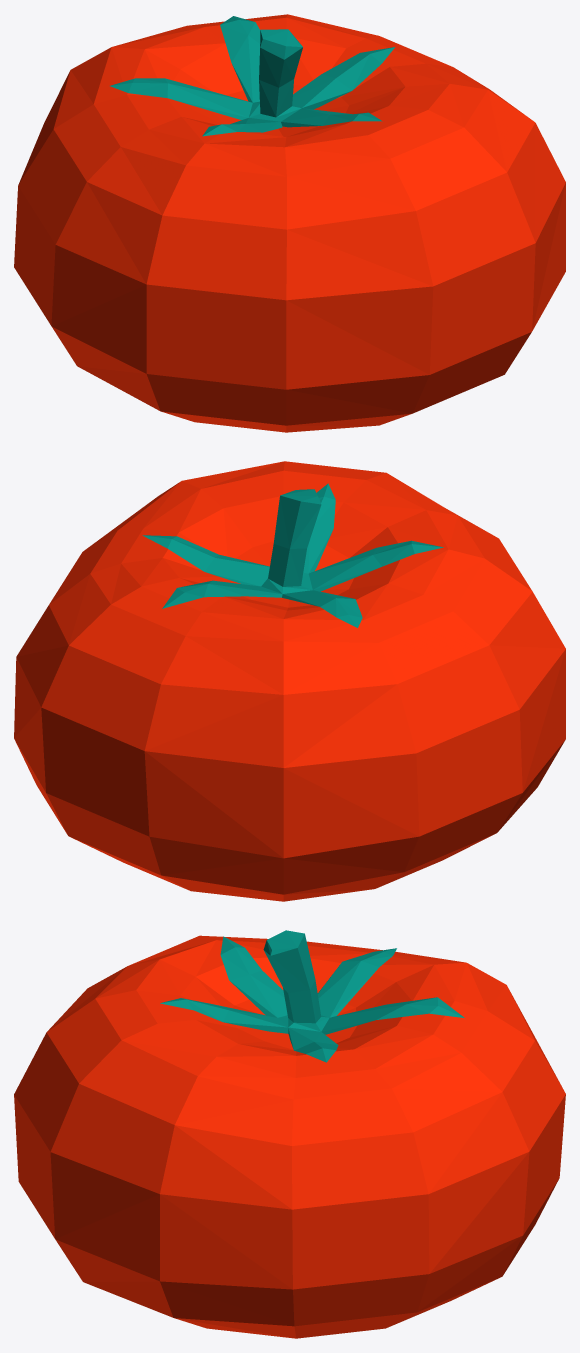
Rendered from tomato.fbx.
3 renders of one model, top to bottom at view 1: azimuth 30°, elevation 25°; view 2: azimuth 150°, elevation 25°; view 3: azimuth 270°, elevation 25°, orthographic. The views are drawn at different scales.
Visible parts, largest first — view 1: tomato; view 2: tomato; view 3: tomato.
Boxes of the visible parts, x1,y1,x2,y2 form: tomato: [14, 14, 565, 432]; tomato: [14, 461, 565, 901]; tomato: [14, 930, 565, 1338].
Size of the model in its own units: 28.53 by 20.15 by 29.94.
